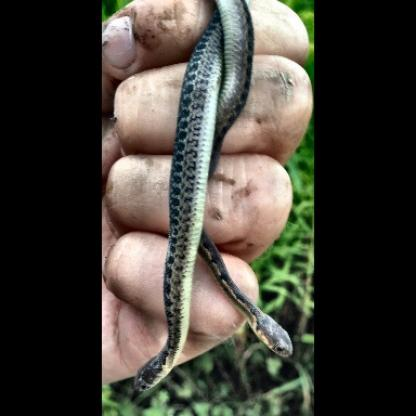Snake: (141, 0, 203, 321), (124, 310, 195, 396), (227, 286, 296, 362)
